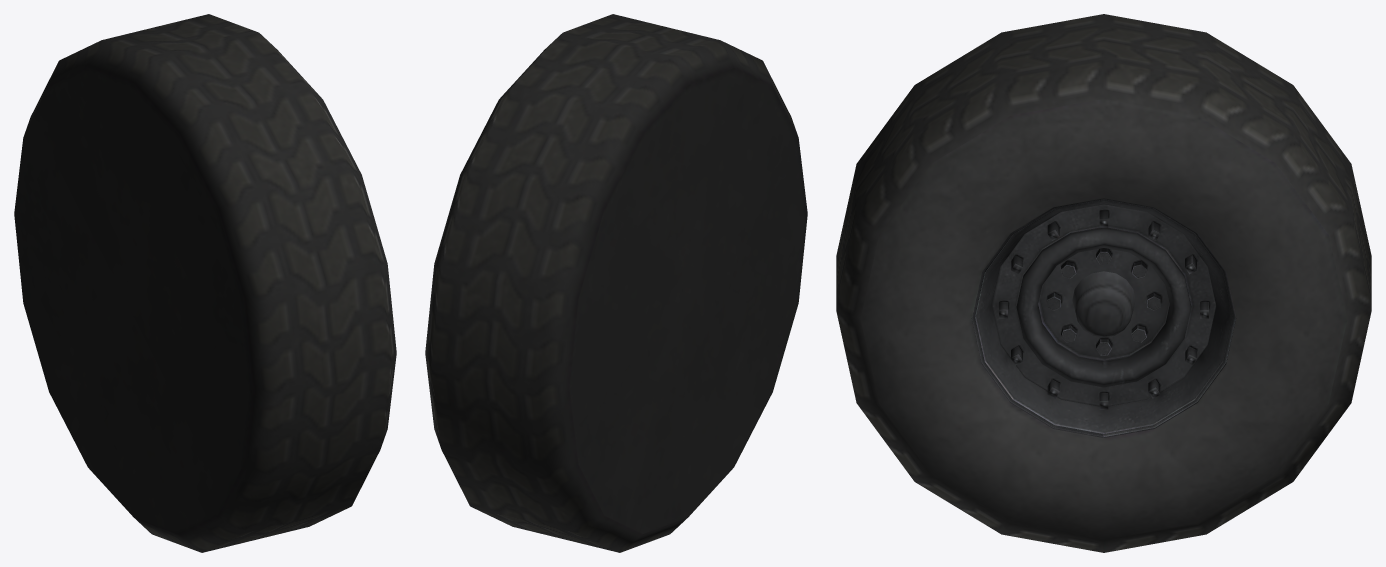
File: Vehicle_M1101_tire.fbx
3 renders of one model, left to right at view 1: azimuth 30°, elevation 25°; view 2: azimuth 150°, elevation 25°; view 3: azimuth 270°, elevation 25°, orthographic. The views are drawn at different scales.
Visible parts, largest first — view 1: Tire; view 2: Tire; view 3: Tire.
Part boxes in pixels (<box>): Tire: <box>14,14,396,552</box>; Tire: <box>425,14,807,552</box>; Tire: <box>836,14,1371,552</box>.
Size of the model in its own units: 21.81 by 64.11 by 64.11.
